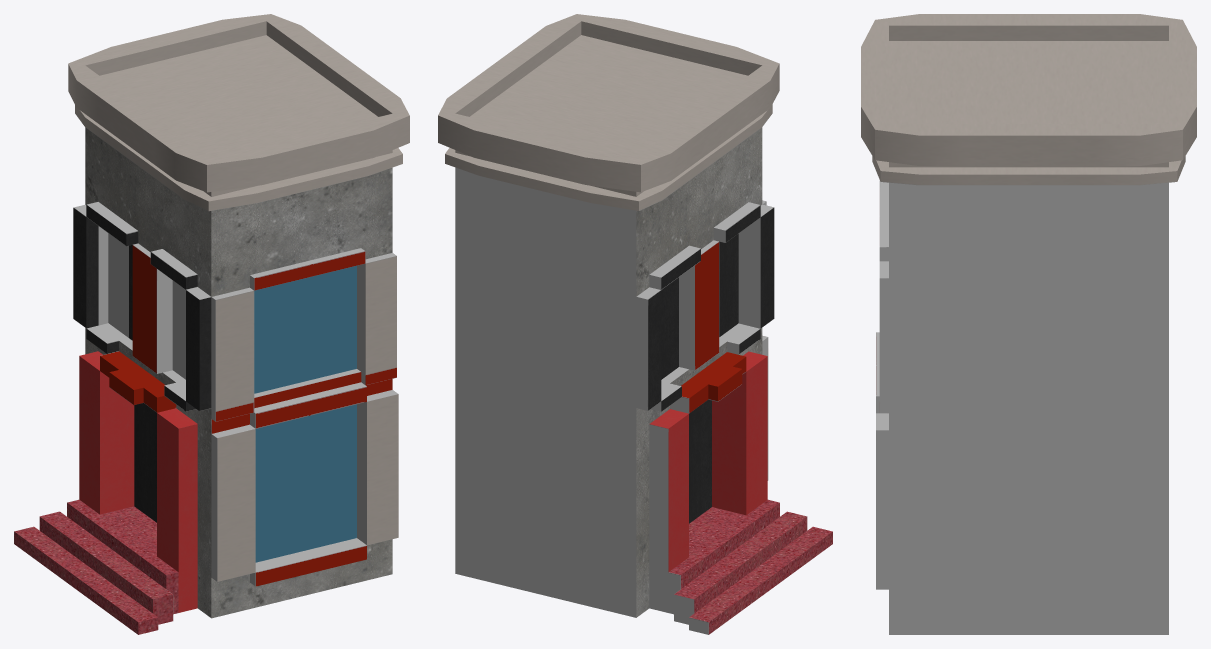
Rendered from ChaosZooCityMapTower12.fbx.
3 renders of one model, left to right at view 1: azimuth 30°, elevation 25°; view 2: azimuth 150°, elevation 25°; view 3: azimuth 270°, elevation 25°, orthographic. The views are drawn at different scales.
Parts seen in each view (by area): view 1: pCube18; view 2: pCube18; view 3: pCube18.
Part boxes in pixels (x1,y1,x2,y2): pCube18: (14,14,409,634); pCube18: (438,14,832,634); pCube18: (861,14,1196,634).
Size of the model in its own units: 117 by 187 by 111.
